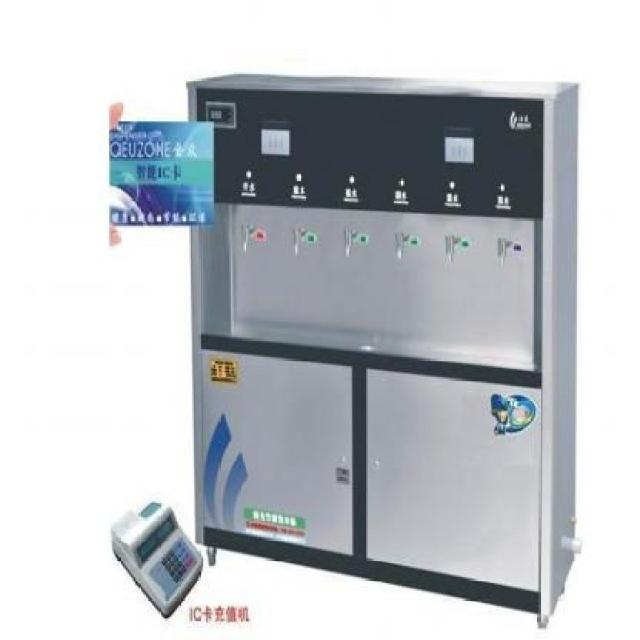cooler: (186, 72, 582, 632)
